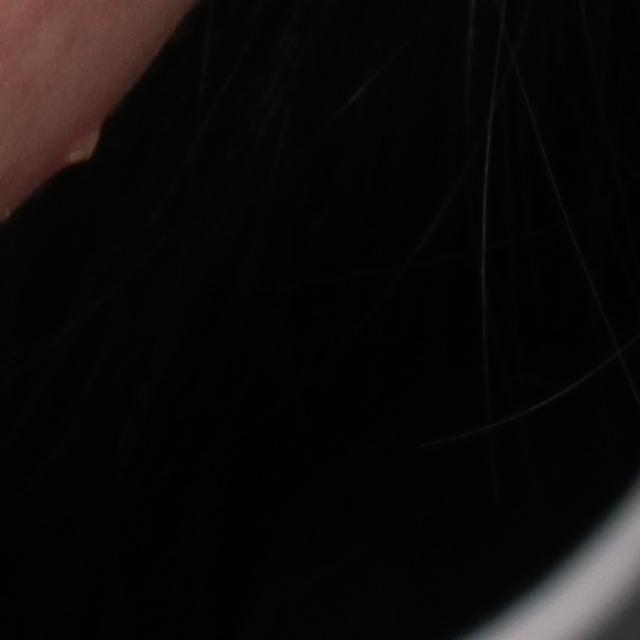pustule: (64, 120, 104, 169)
